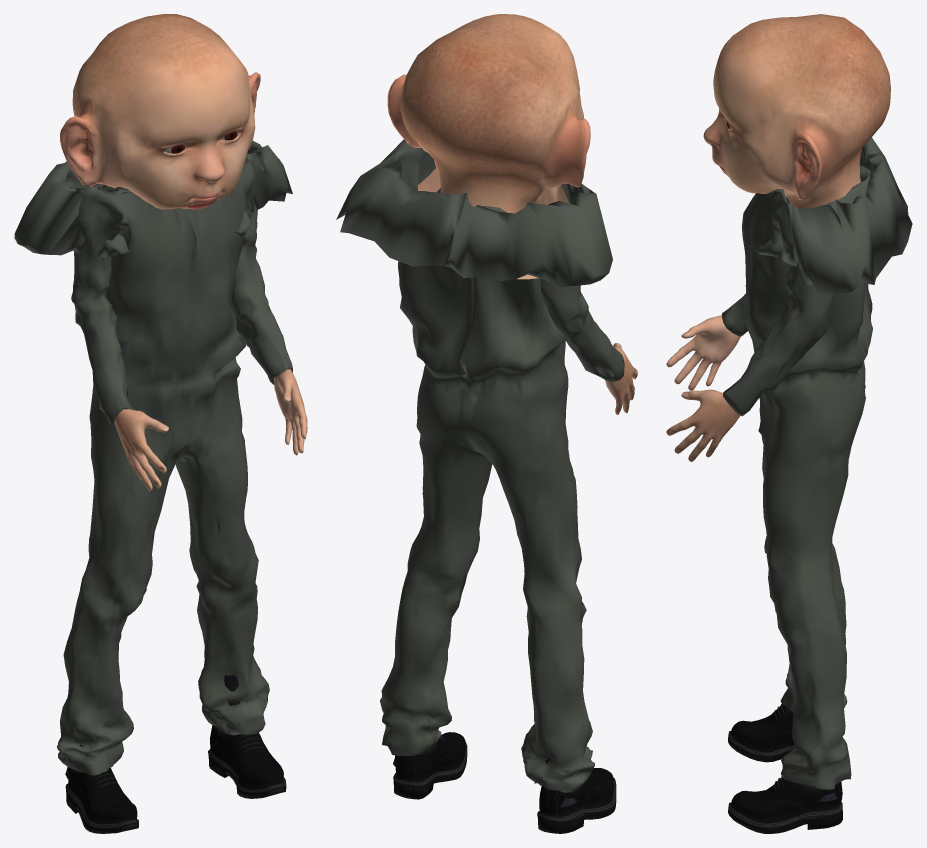
The model's file is valensole-being-pv-1965-08-18.glb.
The picture shows the model from 3 angles, left to right: view 1: azimuth 30°, elevation 25°; view 2: azimuth 150°, elevation 25°; view 3: azimuth 270°, elevation 25°; orthographic projection.
Parts seen in each view (by area): view 1: Human.male_coverall02.001, Human.001, Human.shoes03.001; view 2: Human.male_coverall02.001, Human.001, Human.shoes03.001; view 3: Human.male_coverall02.001, Human.001, Human.shoes03.001.
Boxes of the visible parts, x1,y1,x2,y2 form: Human.male_coverall02.001: [14, 140, 292, 775]; Human.001: [60, 14, 307, 491]; Human.shoes03.001: [65, 675, 286, 833]; Human.male_coverall02.001: [336, 139, 624, 792]; Human.001: [387, 14, 637, 414]; Human.shoes03.001: [393, 732, 616, 833]; Human.male_coverall02.001: [722, 137, 912, 789]; Human.001: [666, 14, 890, 461]; Human.shoes03.001: [728, 703, 842, 833].
Size of the model in its own units: 0.3358 by 0.9257 by 0.2697.
Materials: 4 (4 with a texture image).
